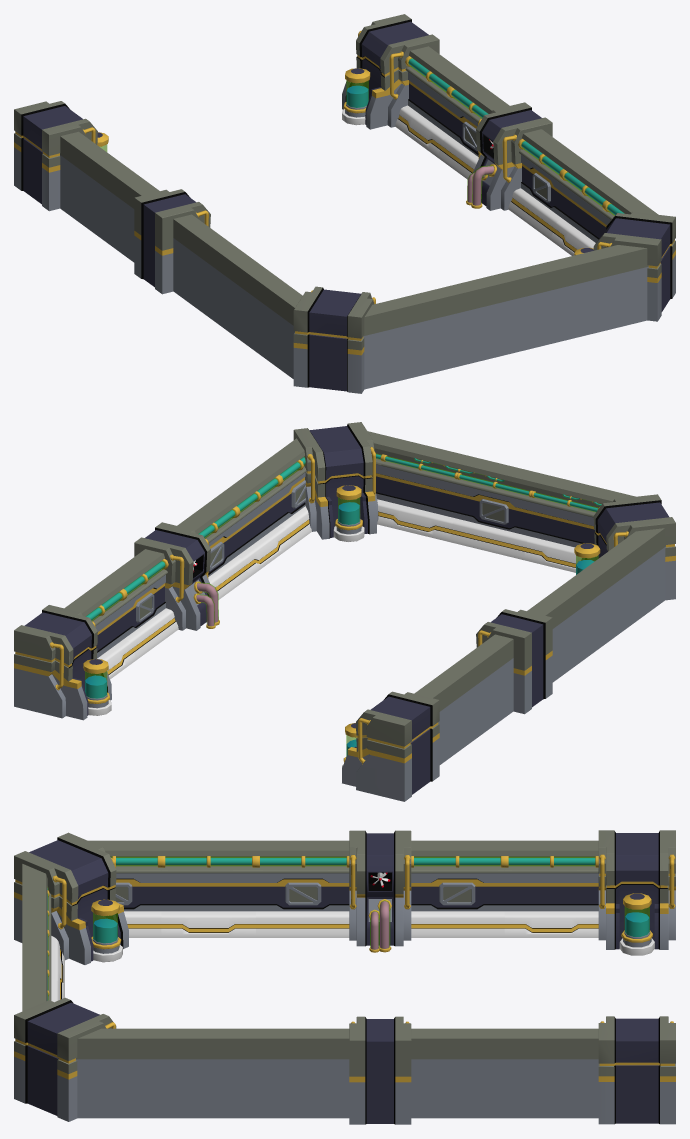
Rendered from Level13.fbx.
3 views of the same model, one above another, from view 1: azimuth 30°, elevation 25°; view 2: azimuth 150°, elevation 25°; view 3: azimuth 270°, elevation 25° (orthographic). The views are drawn at different scales.
Parts seen in each view (by area): view 1: Base (×21), Bottle, Pipe1; view 2: Base (×20), Bottle (×2), Cage; view 3: Base (×19), Pipe1 (×6), Bottle (×2), Cage (×2).
Boxes of the visible parts, x1,y1,x2,y2 form: Base (×21): (14, 14, 675, 393); Bottle: (342, 68, 370, 125); Pipe1: (471, 164, 496, 208); Base (×20): (14, 422, 675, 801); Bottle (×2): (83, 485, 364, 715); Cage: (479, 499, 508, 524); Base (×19): (14, 830, 675, 1124); Pipe1 (×6): (111, 856, 598, 952); Bottle (×2): (91, 893, 654, 962); Cage (×2): (285, 882, 475, 905).
Size of the model in its own units: 385 by 73.12 by 513.
